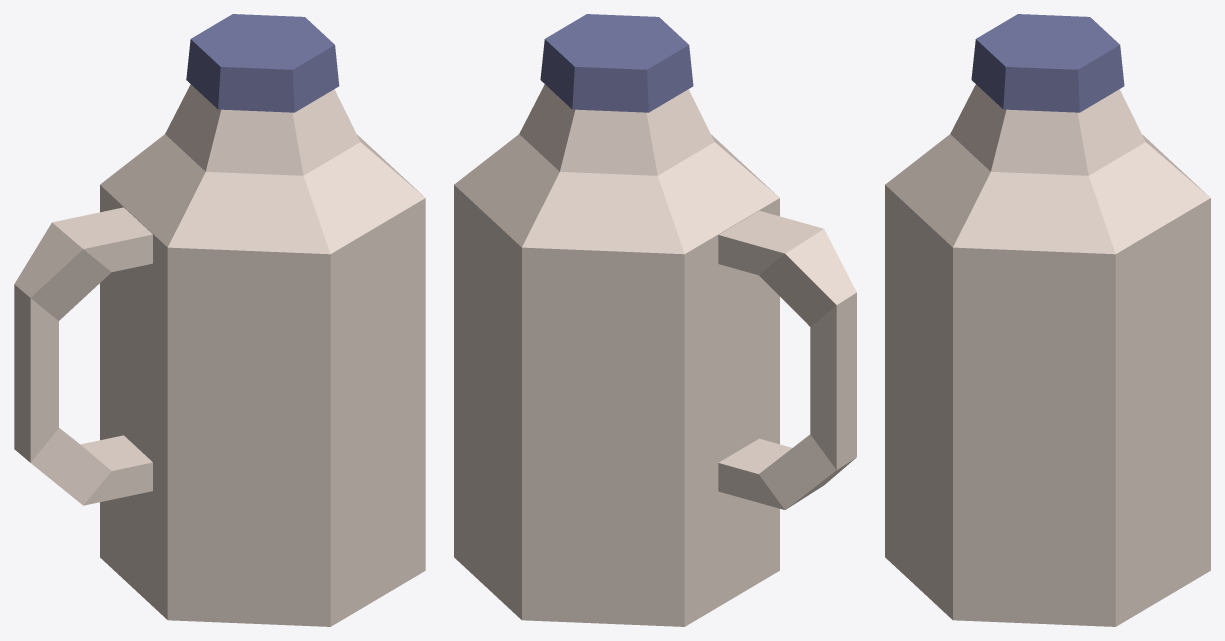
Rendered from Bottle_11.fbx.
The picture shows the model from 3 angles, left to right: view 1: azimuth 30°, elevation 25°; view 2: azimuth 150°, elevation 25°; view 3: azimuth 270°, elevation 25°; orthographic projection.
Parts seen in each view (by area): view 1: Bottle_11; view 2: Bottle_11; view 3: Bottle_11.
Part boxes in pixels (<box>): Bottle_11: <box>14,14,425,626</box>; Bottle_11: <box>454,14,856,626</box>; Bottle_11: <box>885,14,1210,626</box>.
Bounding box in the file's own units: 28.34 × 21.9 × 38.73.
